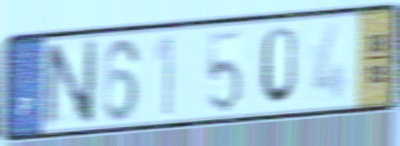0: (258, 24, 298, 108)
1: (154, 31, 176, 121)
4: (309, 18, 351, 105)
5: (205, 26, 246, 114)
6: (102, 35, 142, 125)
N: (42, 35, 100, 132)
